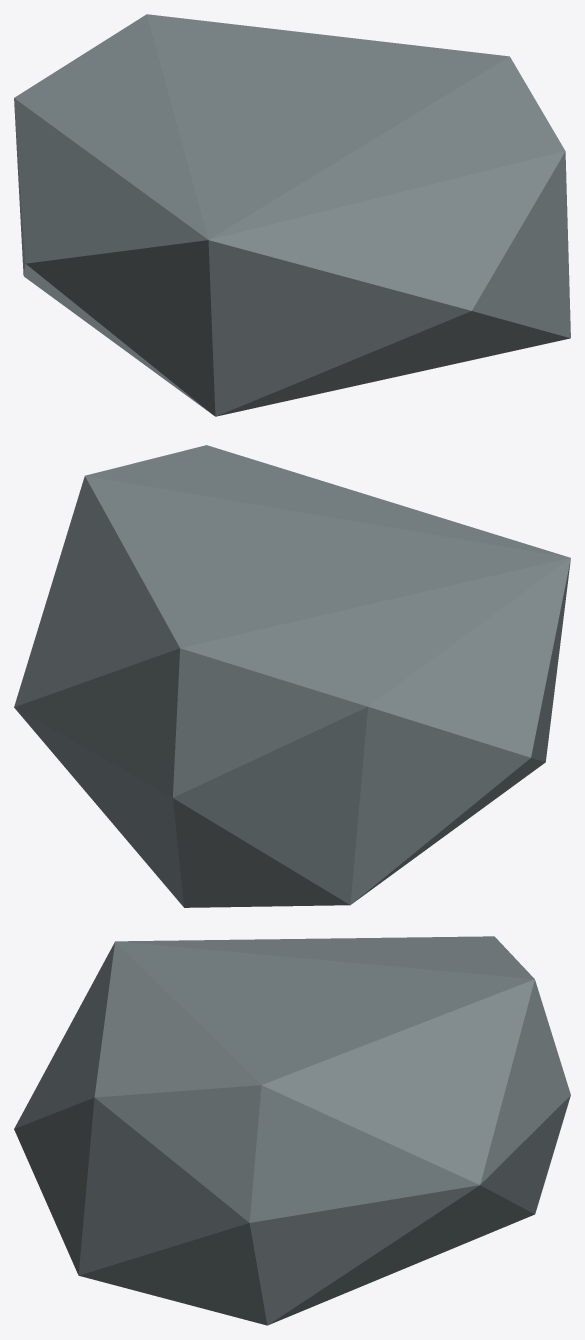
Rendered from Rock_05.fbx.
3 renders of one model, top to bottom at view 1: azimuth 30°, elevation 25°; view 2: azimuth 150°, elevation 25°; view 3: azimuth 270°, elevation 25°, orthographic. The views are drawn at different scales.
Parts seen in each view (by area): view 1: Rock_05; view 2: Rock_05; view 3: Rock_05.
Boxes of the visible parts, x1,y1,x2,y2 form: Rock_05: (14, 14, 570, 416); Rock_05: (14, 445, 570, 907); Rock_05: (14, 936, 570, 1325).
Size of the model in its own units: 0.6518 by 0.312 by 0.6548.
